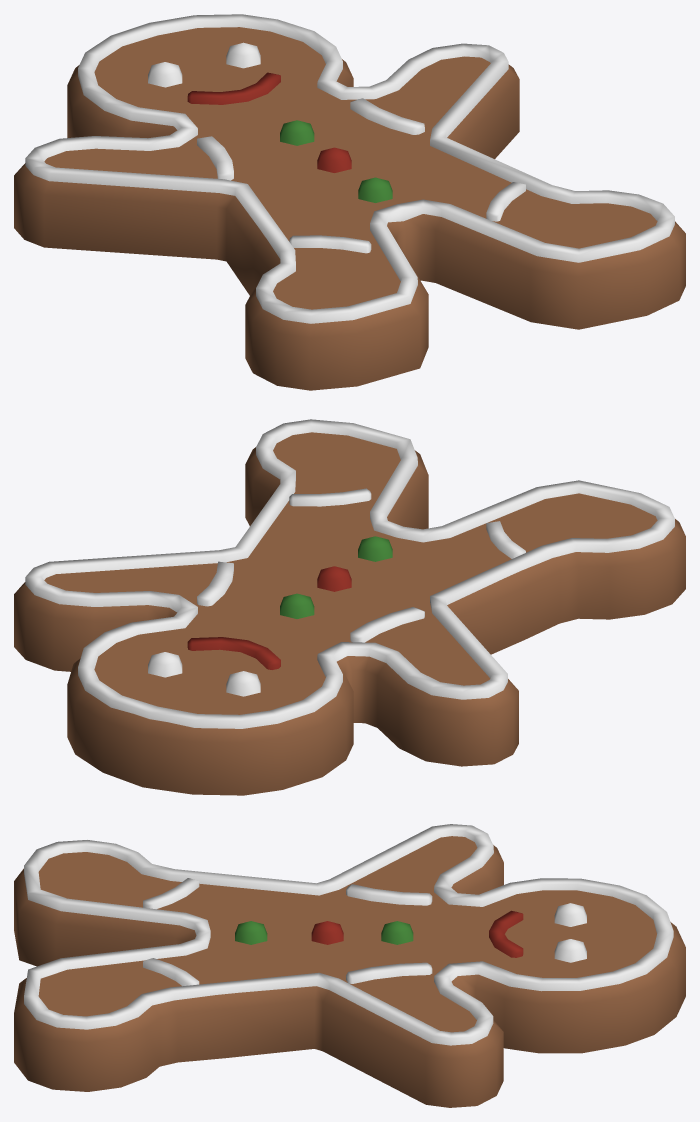
File: CookieGingerbreadMan_01.fbx
3 renders of one model, top to bottom at view 1: azimuth 30°, elevation 25°; view 2: azimuth 150°, elevation 25°; view 3: azimuth 270°, elevation 25°, orthographic. The views are drawn at different scales.
Visible parts, largest first — view 1: CookieGingerbreadMan_01; view 2: CookieGingerbreadMan_01; view 3: CookieGingerbreadMan_01.
Boxes of the visible parts, x1,y1,x2,y2 form: CookieGingerbreadMan_01: [14, 14, 685, 390]; CookieGingerbreadMan_01: [14, 419, 685, 795]; CookieGingerbreadMan_01: [14, 824, 685, 1107].
Size of the model in its own units: 0.1211 by 0.0191 by 0.1542.
